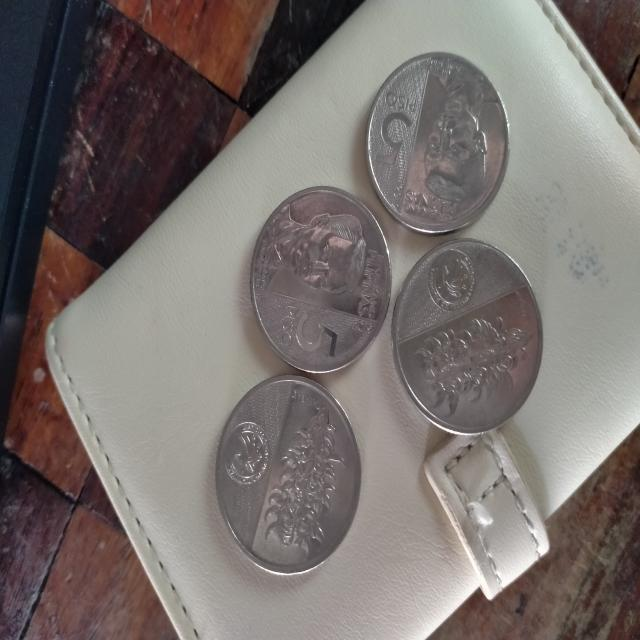5_New_Back: (261, 399, 351, 560), (411, 312, 537, 422)
5_New_Front: (373, 86, 424, 186), (274, 303, 346, 364)
